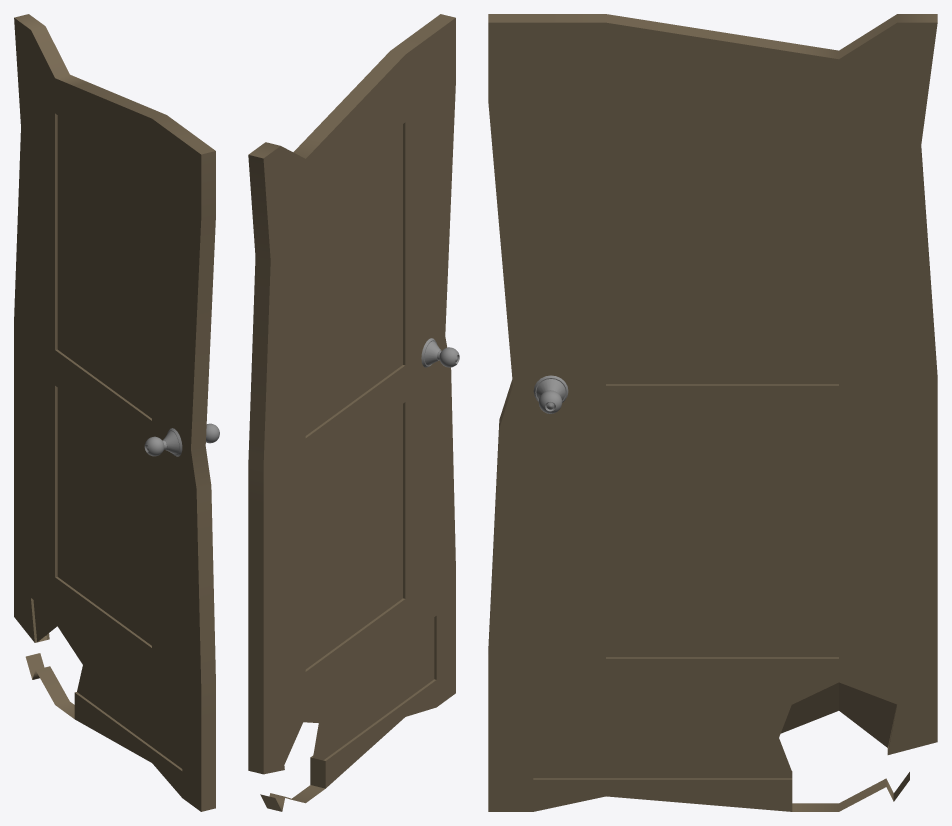
File: broken door.fbx
3 renders of one model, left to right at view 1: azimuth 30°, elevation 25°; view 2: azimuth 150°, elevation 25°; view 3: azimuth 270°, elevation 25°, orthographic. The views are drawn at different scales.
Visible parts, largest first — view 1: broken_door, door_knob3; view 2: broken_door, door_knob3; view 3: broken_door, door_knob.
Part boxes in pixels (x1=…): broken_door: x1=14, y1=14, x2=215, y2=811; door_knob3: x1=144, y1=428, x2=182, y2=456; broken_door: x1=248, y1=14, x2=455, y2=811; door_knob3: x1=421, y1=338, x2=459, y2=367; broken_door: x1=488, y1=14, x2=937, y2=811; door_knob: x1=533, y1=375, x2=568, y2=413.
Bounding box in the file's own units: 0.3684 × 3.29 × 1.7.
